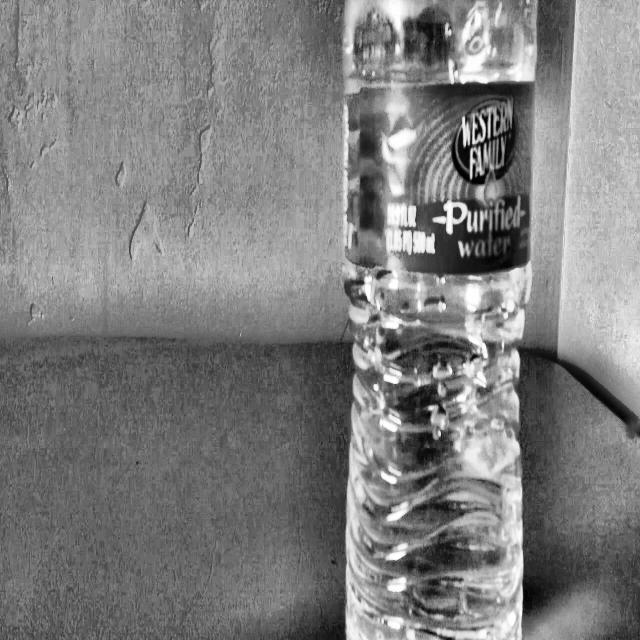waterbottle: (334, 0, 541, 640)
